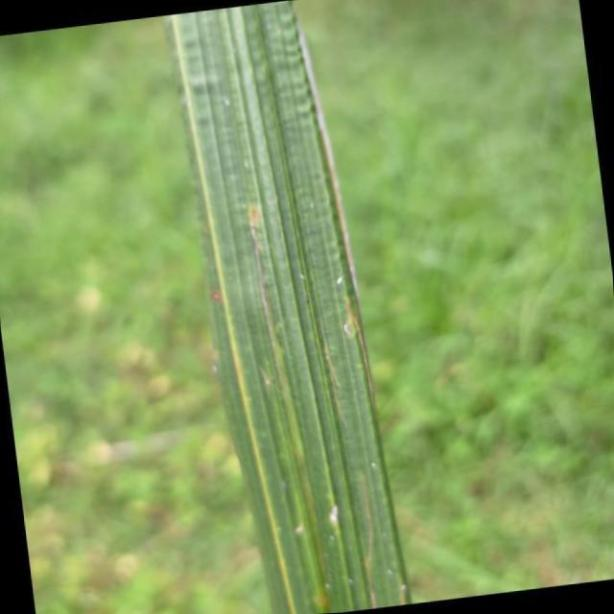Boron: (166, 1, 407, 614)
